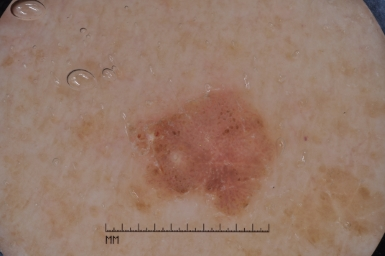seborrheic keratosis: (106, 82, 281, 222)
